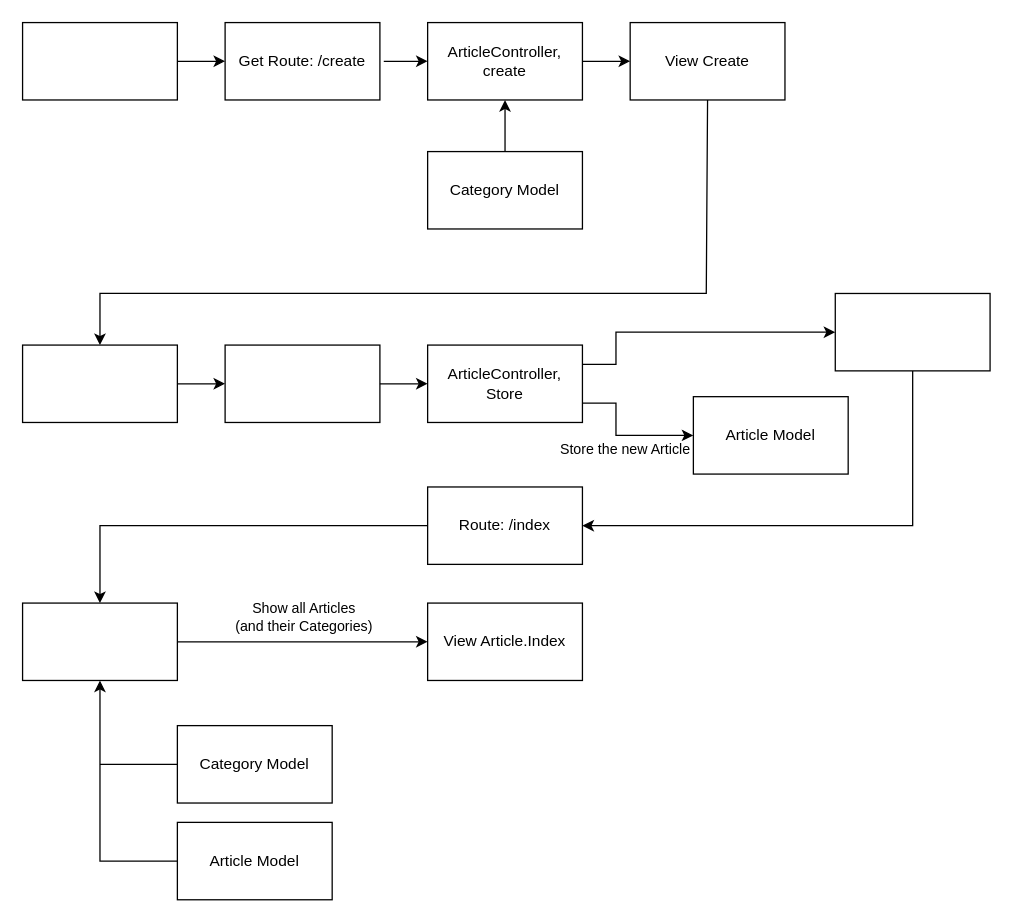
This 1013x922 diagram has some shape labels left out. Each missing label, with the centre of its shape:
"ArticleController, Index" goes at [99,641].
"Create Article knop" goes at [99,60].
"Get Request Redirect Index" goes at [912,331].
"Post Request" goes at [99,383].
"Route: /create/new" goes at [302,383].
